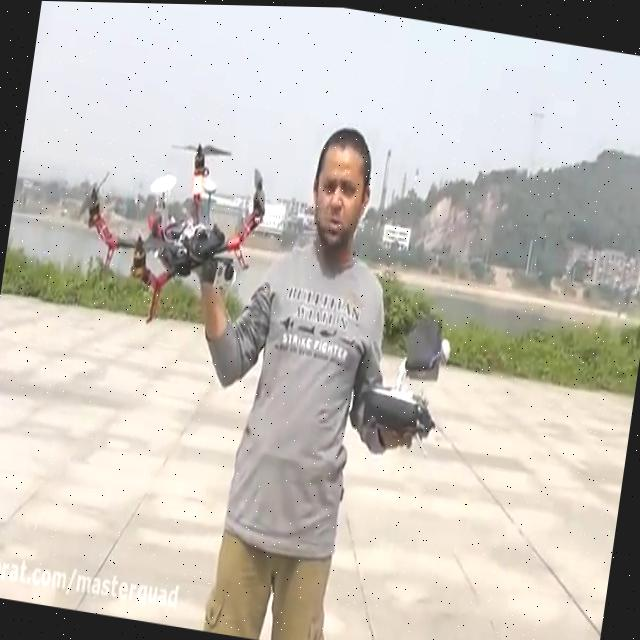drone: (60, 118, 277, 340)
